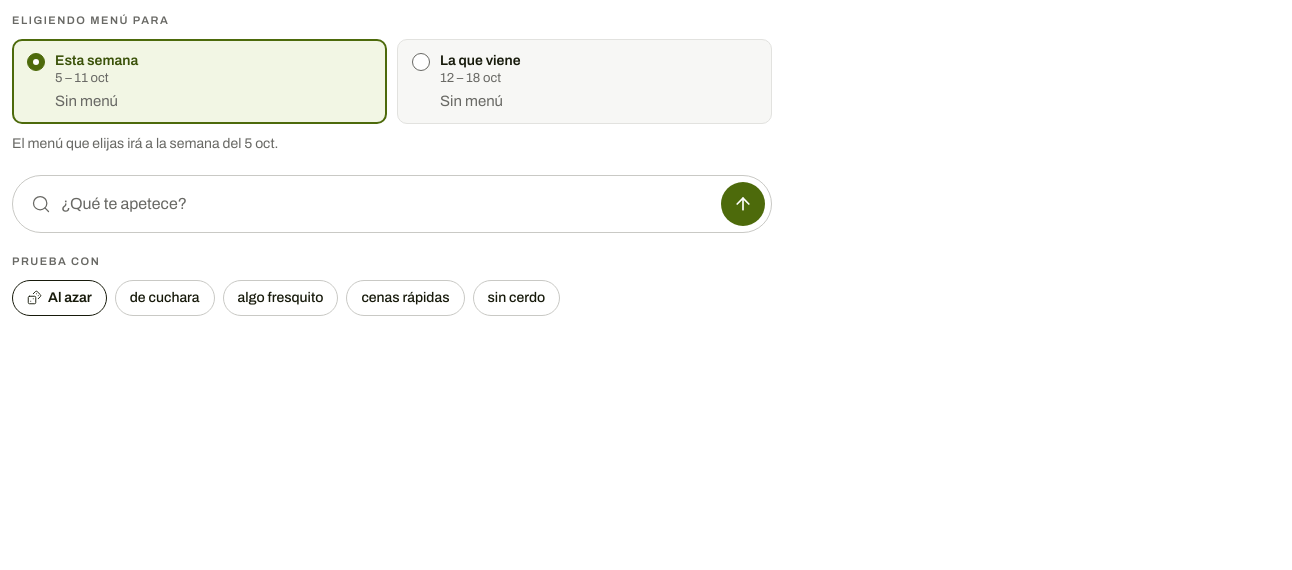
Test: PlannerSearch › a search with no menu › does not show "Editar mi búsqueda" when there is no last request
Type "x" into the field at (386, 204), box [61,184,711,224]
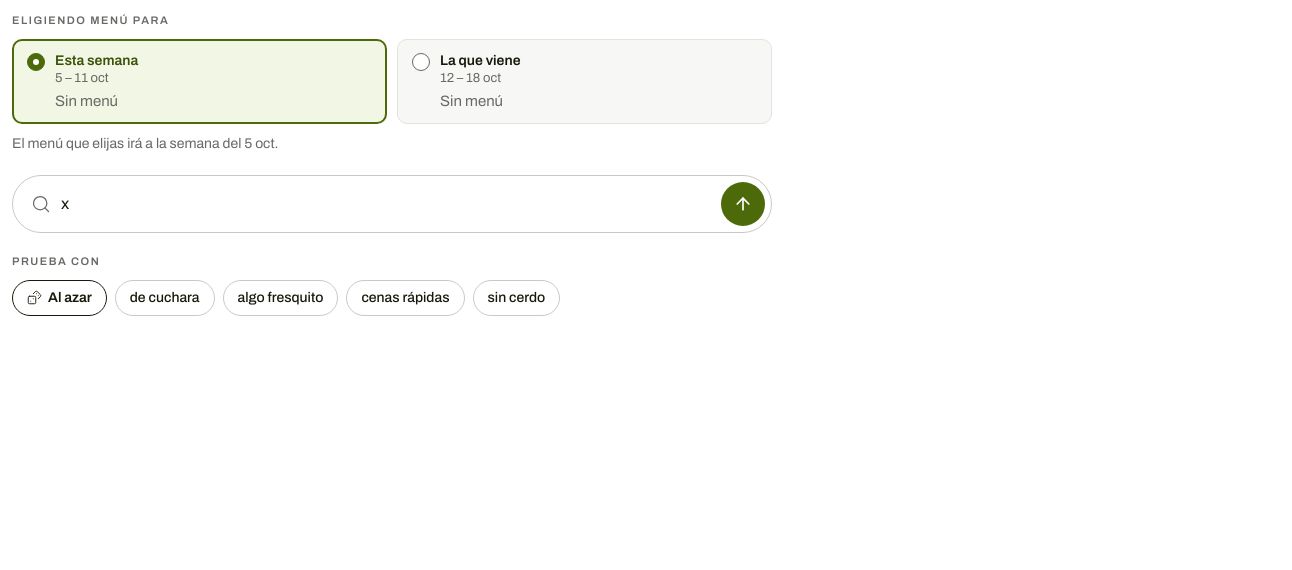
Click the button named "Buscar" at (743, 204), box [721,182,765,226]
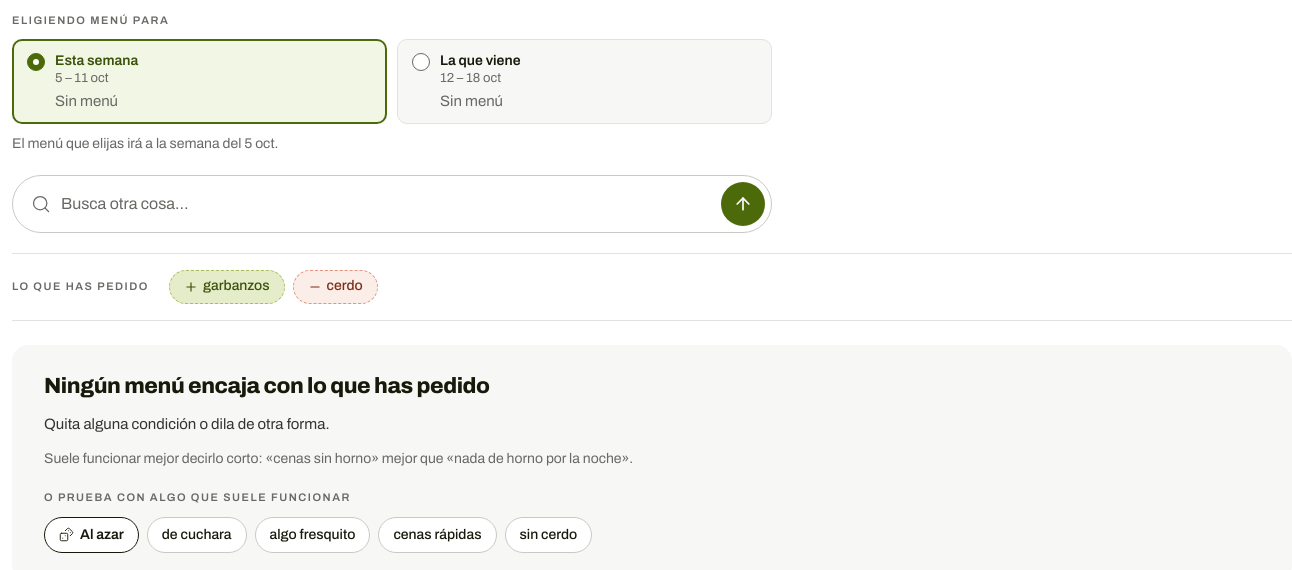
Check: the text "Quita alguna condición o dila de otra forma." is shown, box [44,413,330,436]
